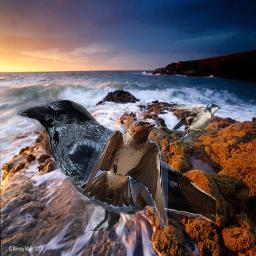Crow: (16, 99, 216, 231)
Swallow: (81, 120, 168, 228), (163, 102, 222, 147)
